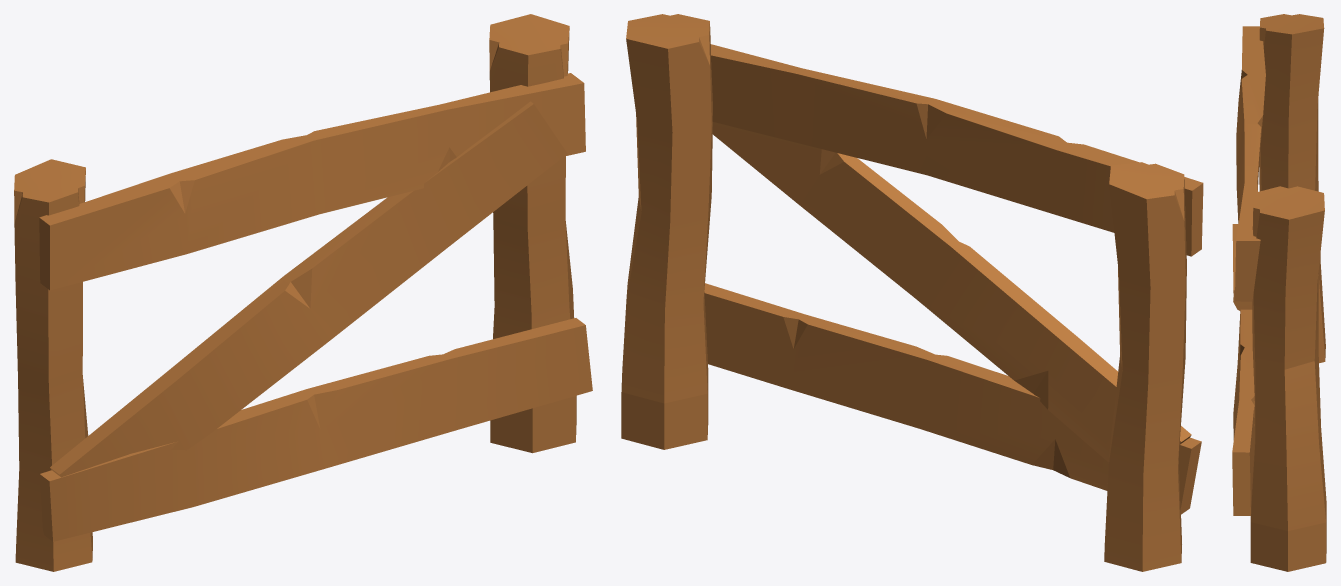
The model's file is SM_Fence_LOD0.fbx.
3 renders of one model, left to right at view 1: azimuth 30°, elevation 25°; view 2: azimuth 150°, elevation 25°; view 3: azimuth 270°, elevation 25°, orthographic. The views are drawn at different scales.
Visible parts, largest first — view 1: SM_Fence_LOD0; view 2: SM_Fence_LOD0; view 3: SM_Fence_LOD0.
Boxes of the visible parts, x1,y1,x2,y2 form: SM_Fence_LOD0: [14, 14, 592, 571]; SM_Fence_LOD0: [621, 14, 1203, 571]; SM_Fence_LOD0: [1232, 14, 1326, 571].
Bounding box in the file's own units: 7.04 × 4.85 × 1.17.
